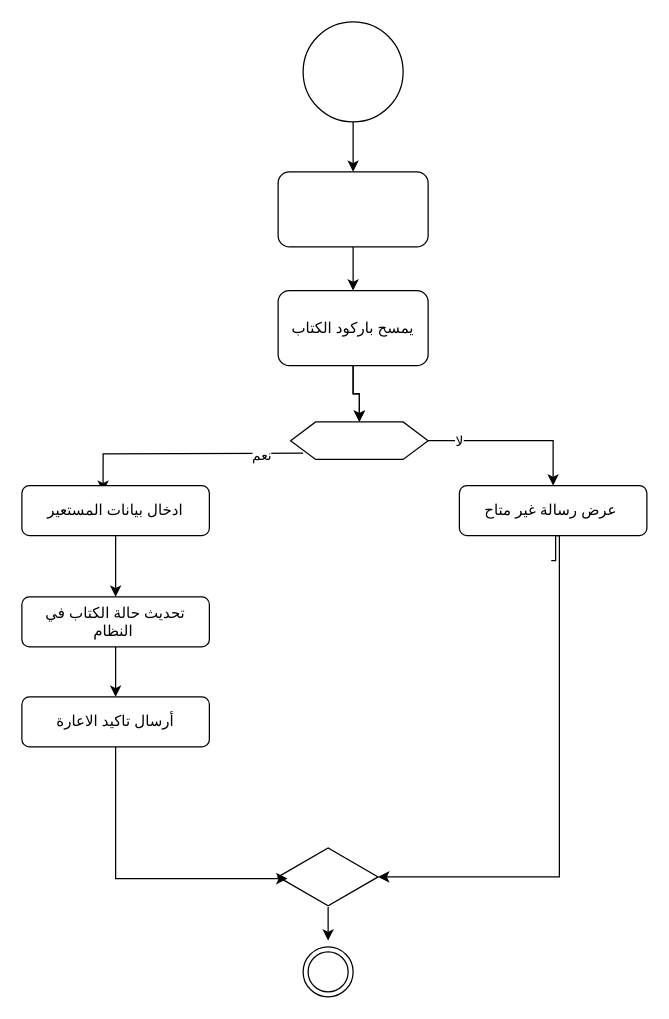
Some shapes in this 669 by 1019 pixel diagram are drawn without their labels. Here are the shapes that lost their labels. From the top down, the centre of each, then its label:
pixel 352 209: بدء عملية الإعارة
pixel 358 440: الكتاب متوفر ؟
